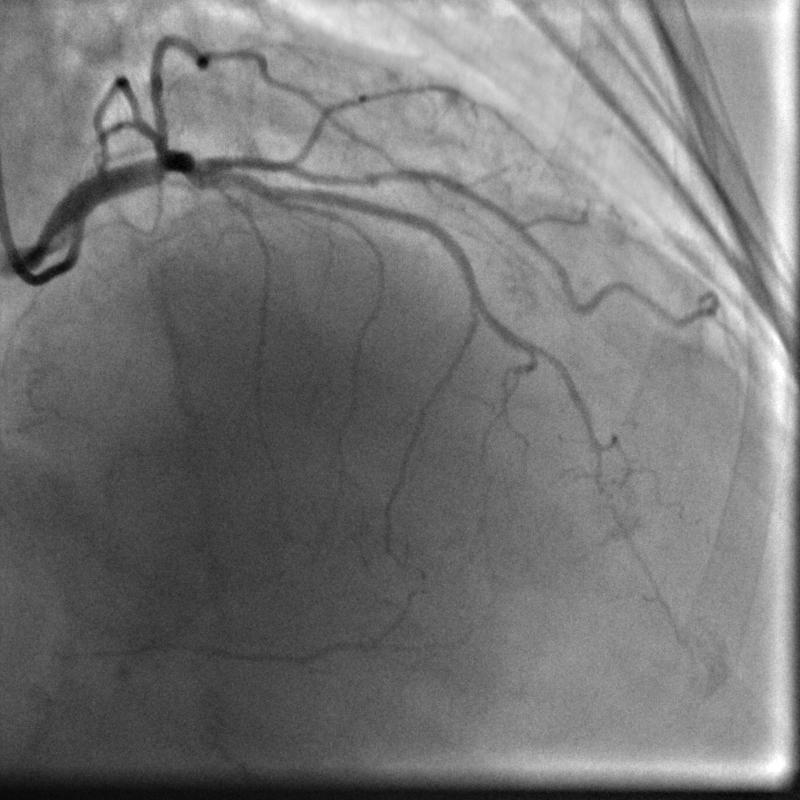Stenosis: (323, 162, 405, 191)
